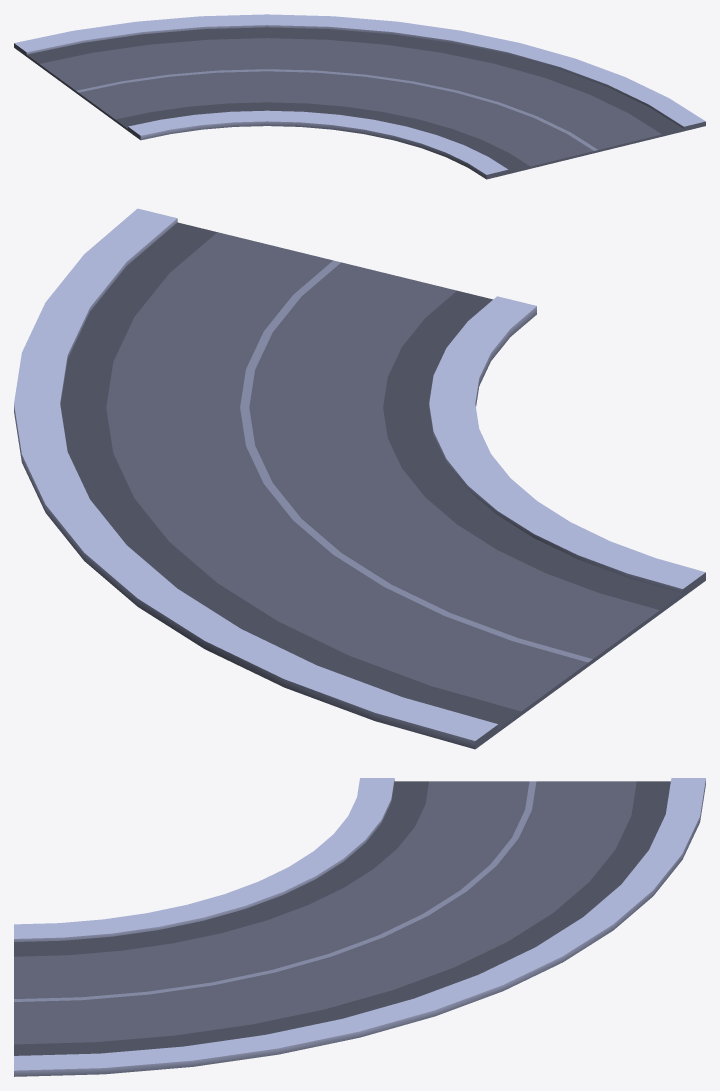
File: road_curve.glb
3 views of the same model, one above another, from view 1: azimuth 30°, elevation 25°; view 2: azimuth 150°, elevation 25°; view 3: azimuth 270°, elevation 25° (orthographic). The views are drawn at different scales.
Visible parts, largest first — view 1: road-curve; view 2: road-curve; view 3: road-curve.
Part boxes in pixels (<box>): road-curve: <box>14,14,705,179</box>; road-curve: <box>14,208,705,749</box>; road-curve: <box>14,778,705,1076</box>.
Bounding box in the file's own units: 8 × 0.08 × 8.
1 material, 1 textured.
